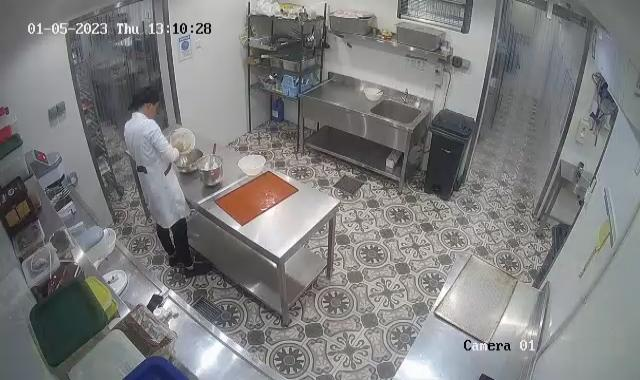no_hairnet: (128, 84, 164, 110)
